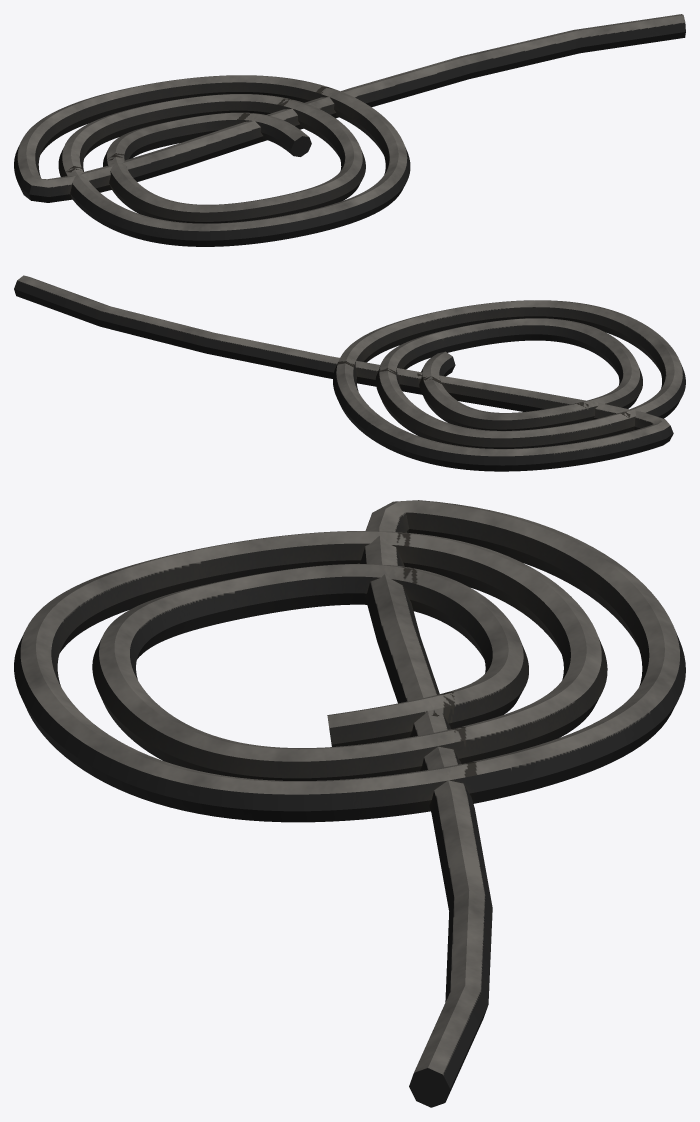
Rendered from SM_Cable_Coil.fbx.
The picture shows the model from 3 angles, top to bottom: view 1: azimuth 30°, elevation 25°; view 2: azimuth 150°, elevation 25°; view 3: azimuth 270°, elevation 25°; orthographic projection. The views are drawn at different scales.
Visible parts, largest first — view 1: SM_Cable_Coil; view 2: SM_Cable_Coil; view 3: SM_Cable_Coil.
Part boxes in pixels (<box>): SM_Cable_Coil: <box>14,14,685,246</box>; SM_Cable_Coil: <box>14,275,685,471</box>; SM_Cable_Coil: <box>14,500,685,1107</box>.
Size of the model in its own units: 0.6851 by 0.0292 by 0.3384.
Materials: 1 (1 with a texture image).
